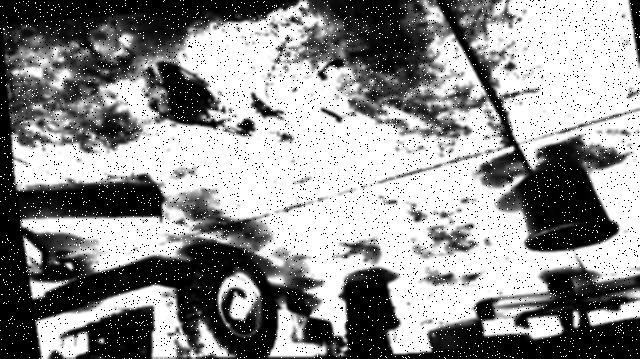pot: (517, 166, 618, 250), (345, 279, 399, 332)
